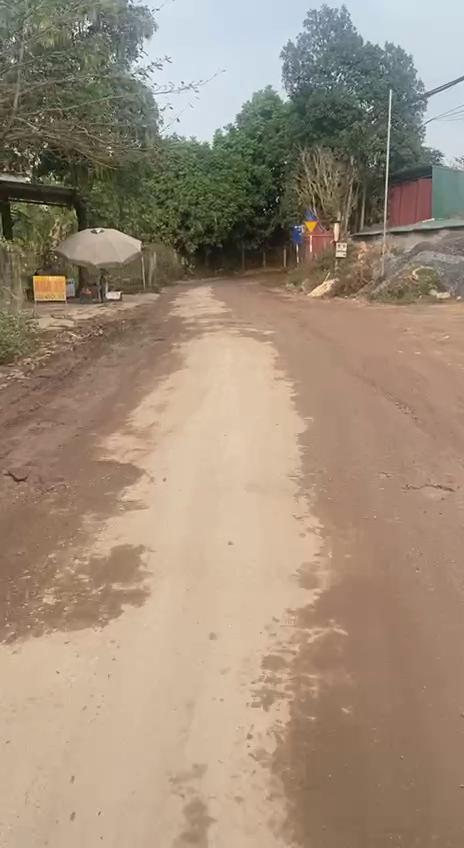pothole: (0, 458, 147, 512)
